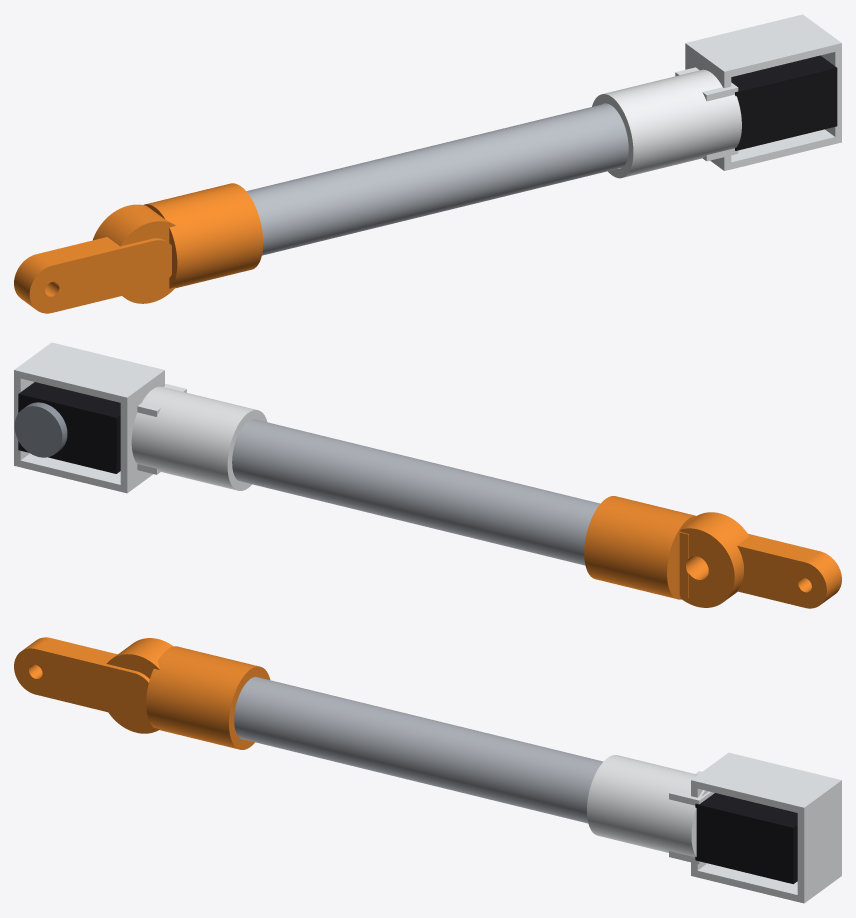
File: fore.glb
3 views of the same model, one above another, from view 1: azimuth 30°, elevation 25°; view 2: azimuth 150°, elevation 25°; view 3: azimuth 330°, elevation 25° (orthographic). The views are drawn at different scales.
Parts seen in each view (by area): view 1: aluminium tube, forearm hub and rear lever (printed), wrist clamp (printed), servo; view 2: aluminium tube, forearm hub and rear lever (printed), wrist clamp (printed), servo, servo horn; view 3: aluminium tube, wrist clamp (printed), forearm hub and rear lever (printed), servo.
Boxes of the visible parts, box(x1,y1,x2,y2) form: aluminium tube: box(246, 103, 628, 255); forearm hub and rear lever (printed): box(14, 183, 263, 313); wrist clamp (printed): box(592, 14, 841, 178); servo: box(731, 55, 837, 150); aluminium tube: box(232, 419, 599, 565); forearm hub and rear lever (printed): box(584, 496, 841, 608); wrist clamp (printed): box(14, 342, 267, 493); servo: box(18, 382, 120, 473); servo horn: box(14, 402, 67, 457); aluminium tube: box(234, 676, 603, 823); wrist clamp (printed): box(587, 752, 841, 903); forearm hub and rear lever (printed): box(14, 637, 270, 749); servo: box(695, 793, 797, 884).
Bounding box in the file's own units: 0.361 × 0.042 × 0.0435.
